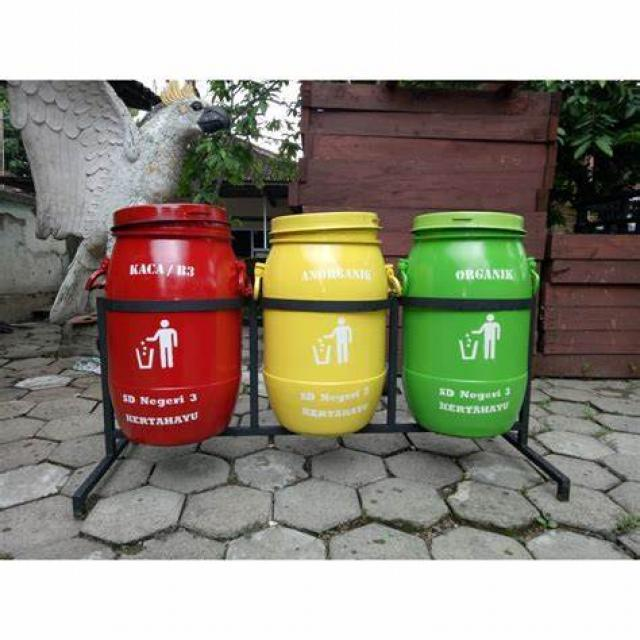garbage container: (54, 191, 259, 461), (402, 185, 560, 473), (255, 189, 403, 459)
